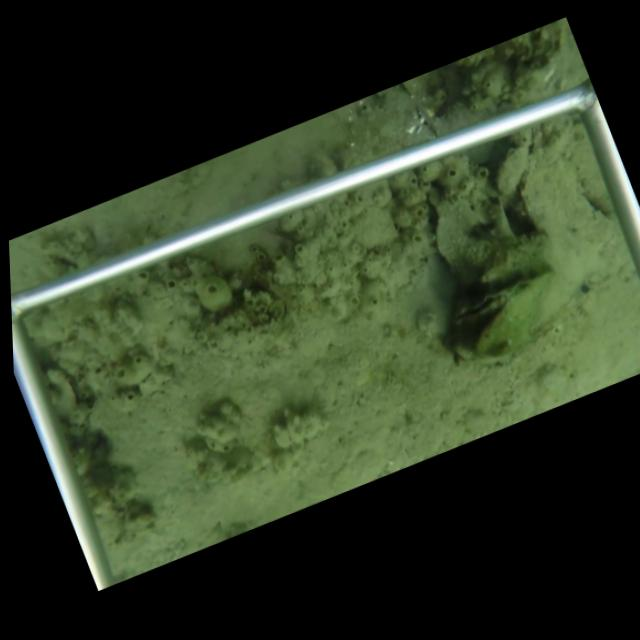Oyster-Closed: (517, 114, 580, 235)
Oyster-Indeterminate: (424, 165, 493, 292)
Oyster-Open: (449, 270, 552, 329)
